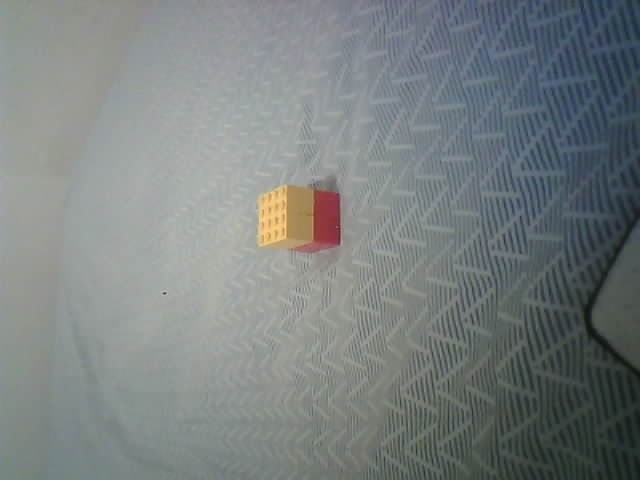lego: (256, 184, 342, 255)
